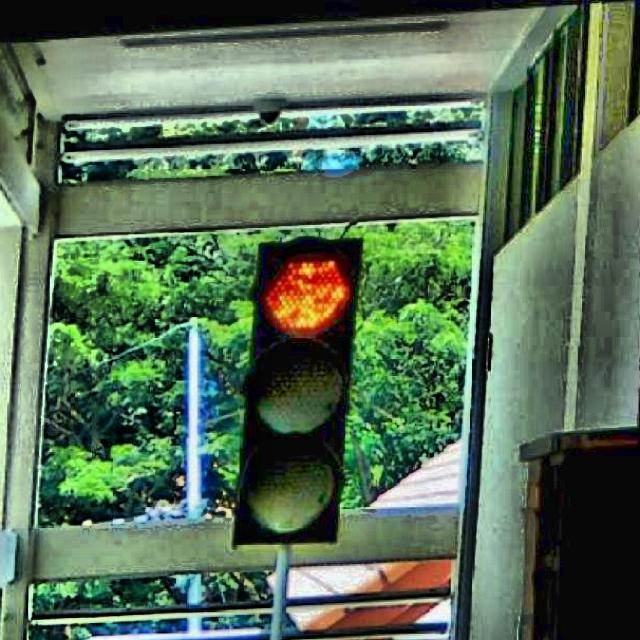red: (226, 234, 370, 545)
